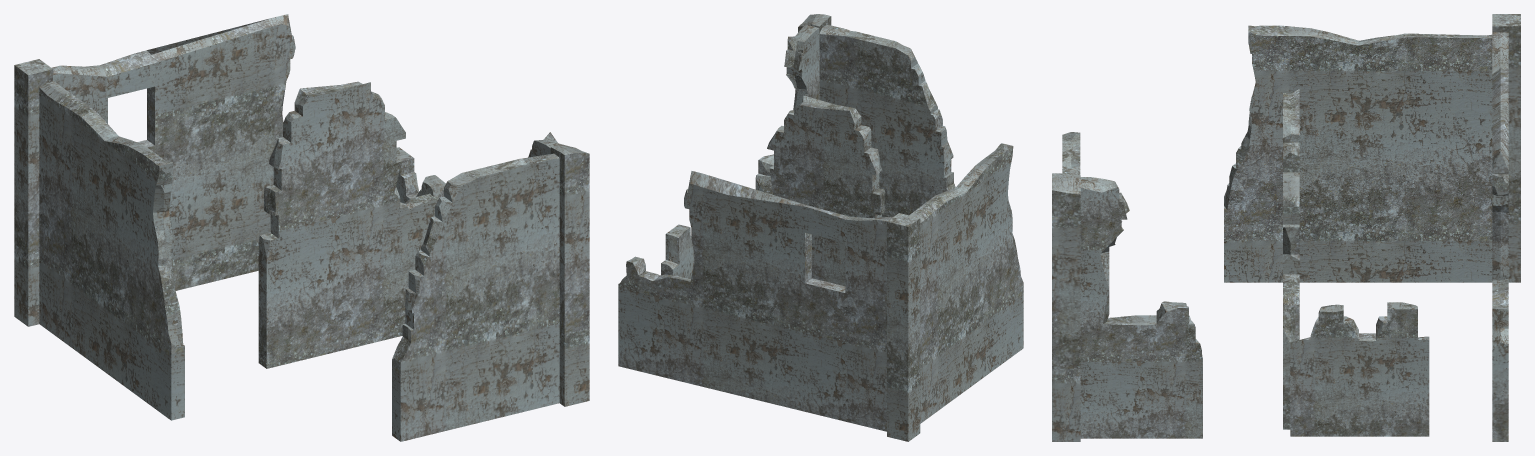
Rendered from nha2 1.fbx.
3 views of the same model, side by side, from view 1: azimuth 30°, elevation 25°; view 2: azimuth 150°, elevation 25°; view 3: azimuth 270°, elevation 25° (orthographic). The views are drawn at different scales.
Parts seen in each view (by area): view 1: Cube.005, Cube.003, Cube, Cube.002, Cube.006, Cube.001, Cube.004; view 2: Cube.002, Cube, Cube.005, Cube.003, Cube.001, Cube.007, Cube.004, Cube.006; view 3: Cube, Cube.007, Cube.004, Cube.006, Cube.002, Cube.003, Cube.001, Cube.005.
Boxes of the visible parts, box(x1,y1,x2,y2) form: Cube.005: box(392, 153, 559, 441); Cube.003: box(258, 81, 438, 368); Cube: box(39, 81, 184, 420); Cube.002: box(51, 14, 295, 290); Cube.006: box(550, 144, 589, 406); Cube.001: box(14, 59, 53, 326); Cube.004: box(396, 147, 445, 203); Cube.002: box(618, 171, 893, 431); Cube: box(909, 143, 1023, 423); Cube.005: box(819, 25, 955, 217); Cube.003: box(767, 95, 884, 286); Cube.001: box(887, 213, 920, 441); Cube.007: box(755, 25, 819, 194); Cube.004: box(661, 224, 694, 278); Cube.006: box(798, 14, 831, 99); Cube: box(1224, 25, 1492, 282); Cube.007: box(1080, 177, 1202, 438); Cube.004: box(1290, 302, 1429, 436); Cube.006: box(1052, 173, 1080, 441); Cube.002: box(1492, 32, 1508, 441); Cube.003: box(1283, 89, 1299, 429); Cube.001: box(1492, 14, 1520, 282); Cube.005: box(1062, 132, 1080, 175).
Bounding box in the file's own units: 502 × 368 × 580.
1 material, 1 textured.
